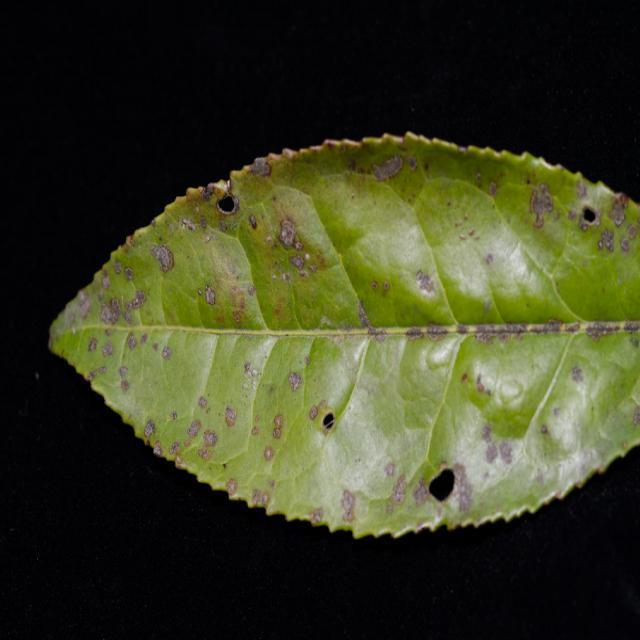Tea red rust: (63, 133, 608, 531)
